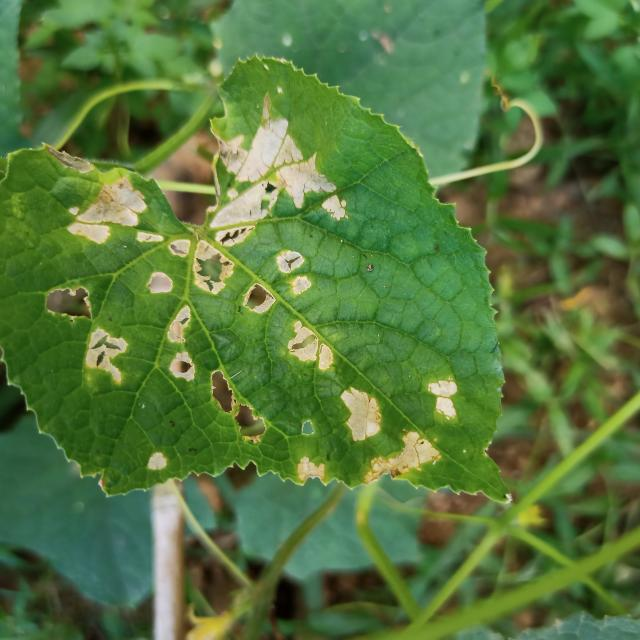disease_cucumber: (34, 99, 350, 387), (211, 318, 470, 502), (143, 439, 171, 475)
